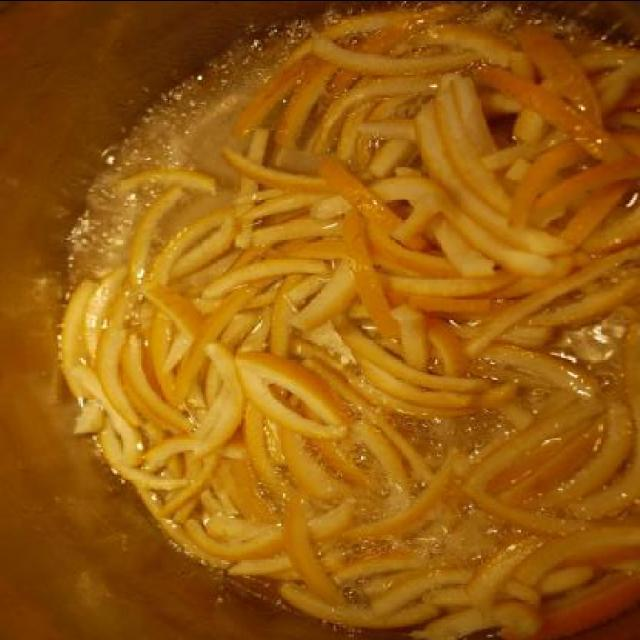French fries: (416, 100, 566, 252), (418, 109, 560, 251), (459, 242, 639, 352), (464, 384, 628, 484), (310, 354, 432, 482), (232, 30, 366, 134), (506, 128, 638, 232), (324, 0, 458, 100), (512, 48, 640, 146), (520, 397, 626, 508), (336, 449, 462, 542), (330, 314, 484, 388), (458, 472, 640, 534), (492, 565, 639, 640), (315, 162, 433, 255), (270, 39, 366, 152), (492, 418, 612, 507), (497, 272, 640, 346), (437, 80, 511, 220), (512, 24, 602, 134), (482, 413, 600, 495), (230, 350, 352, 428), (481, 113, 640, 171), (461, 276, 640, 327), (447, 192, 555, 276), (343, 371, 515, 420), (302, 174, 442, 234), (309, 32, 480, 80), (117, 328, 195, 430), (138, 478, 227, 567), (424, 564, 592, 610), (141, 288, 233, 370), (344, 208, 400, 342), (474, 342, 598, 400), (349, 349, 480, 402), (523, 164, 640, 222), (280, 494, 342, 603), (512, 530, 640, 582), (202, 270, 294, 342), (554, 175, 638, 253), (228, 154, 380, 197), (567, 429, 639, 517), (281, 583, 428, 625), (288, 238, 424, 280), (385, 20, 513, 64), (96, 432, 186, 492), (190, 344, 238, 456), (410, 600, 544, 640), (348, 416, 406, 504), (132, 185, 184, 282), (293, 270, 365, 339), (245, 400, 292, 500), (59, 278, 98, 397), (132, 434, 242, 476), (448, 72, 498, 162), (203, 262, 334, 296), (216, 448, 274, 520), (102, 327, 142, 430), (384, 288, 502, 320), (182, 517, 282, 554), (431, 220, 497, 276), (324, 552, 440, 582), (373, 271, 524, 294), (162, 461, 220, 517), (356, 97, 406, 157), (368, 560, 437, 602), (268, 272, 300, 356), (615, 329, 639, 433), (194, 368, 226, 444), (245, 221, 346, 245), (115, 170, 216, 193), (395, 196, 443, 240), (332, 104, 374, 154), (140, 435, 194, 473), (365, 138, 421, 174), (353, 116, 418, 138), (428, 580, 476, 608), (197, 489, 234, 520)
